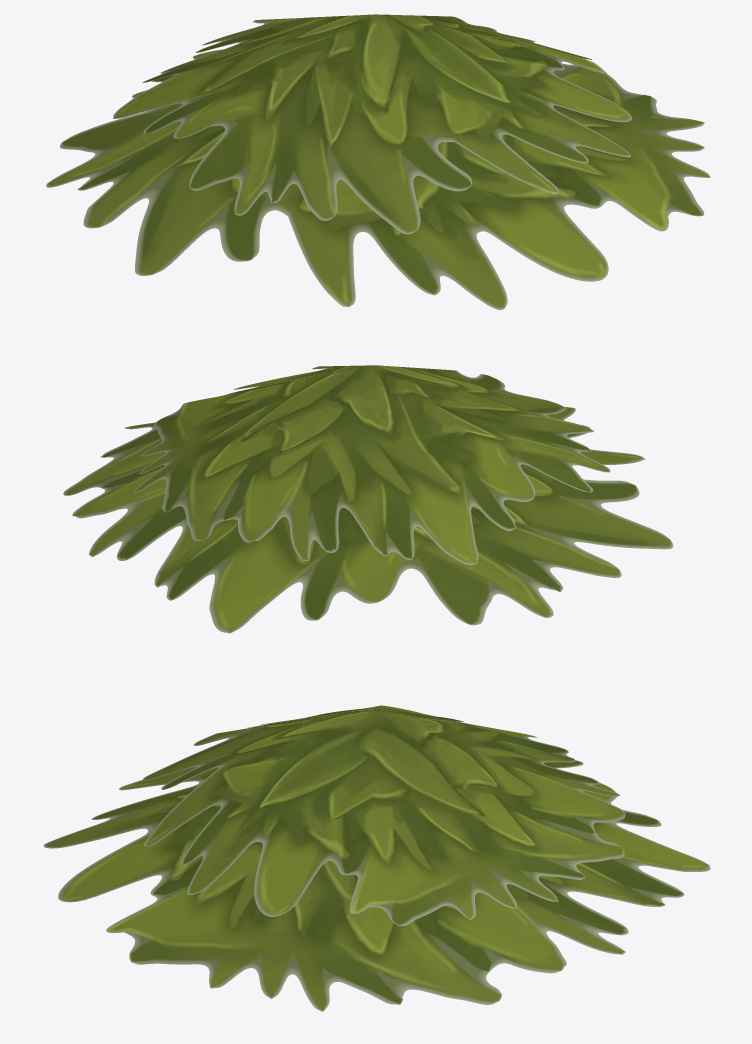
File: F_Bush1.fbx
The picture shows the model from 3 angles, top to bottom: view 1: azimuth 30°, elevation 25°; view 2: azimuth 150°, elevation 25°; view 3: azimuth 270°, elevation 25°; orthographic projection. The views are drawn at different scales.
Visible parts, largest first — view 1: Bush1; view 2: Bush1; view 3: Bush1.
Part boxes in pixels (box(x1,y1,x2,y2)): Bush1: box(46, 14, 710, 310); Bush1: box(63, 365, 673, 633); Bush1: box(43, 705, 710, 1011).
Size of the model in its own units: 1.86 by 0.4615 by 1.83.
